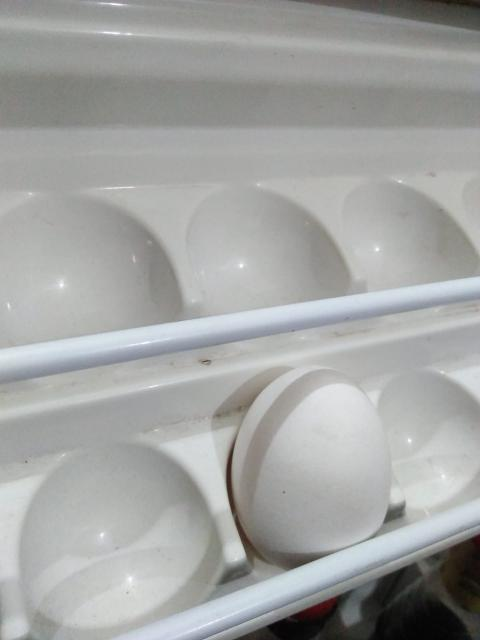Sano: (229, 364, 392, 568)
